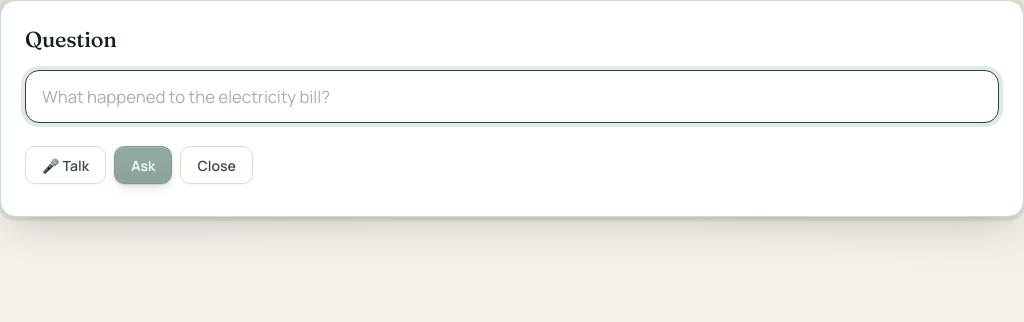
Test case: Import from inbox command › runs the import when the command is typed, and tells the list to reload
Type "Import from inbox" into the field labelled "Question" at (512, 97), box x1=25 y1=70 x2=999 y2=123
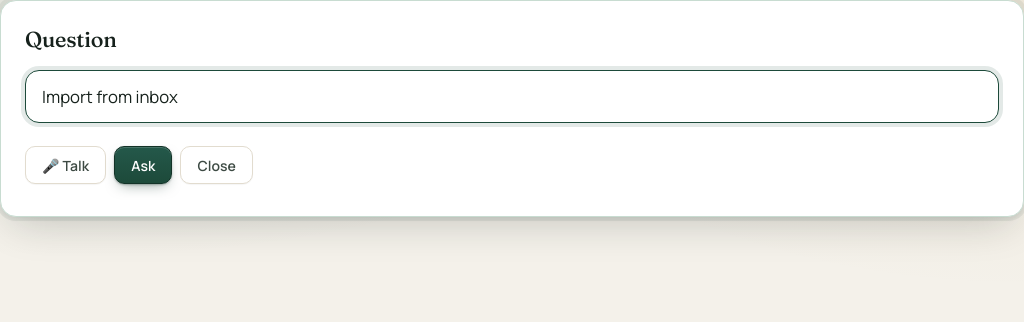
Click the button "Ask" at (143, 165), box x1=114 y1=146 x2=172 y2=184
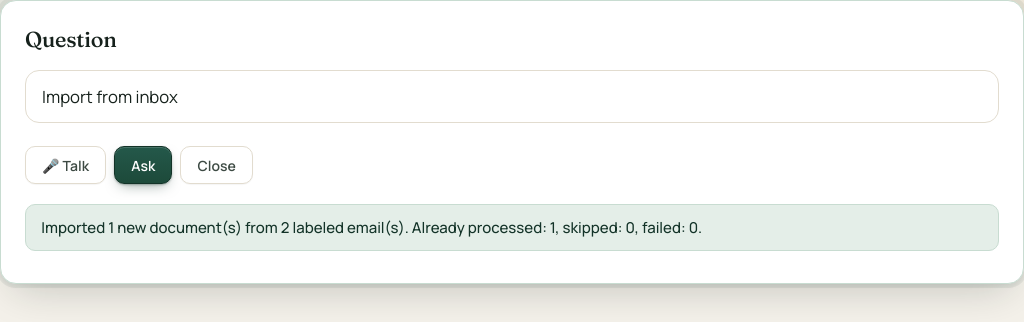
Now the message shows "Imported 1 new document(s) from 2 labeled email(s). Already processed: 1, skipped: 0, failed: 0.", box x1=41 y1=217 x2=702 y2=238
